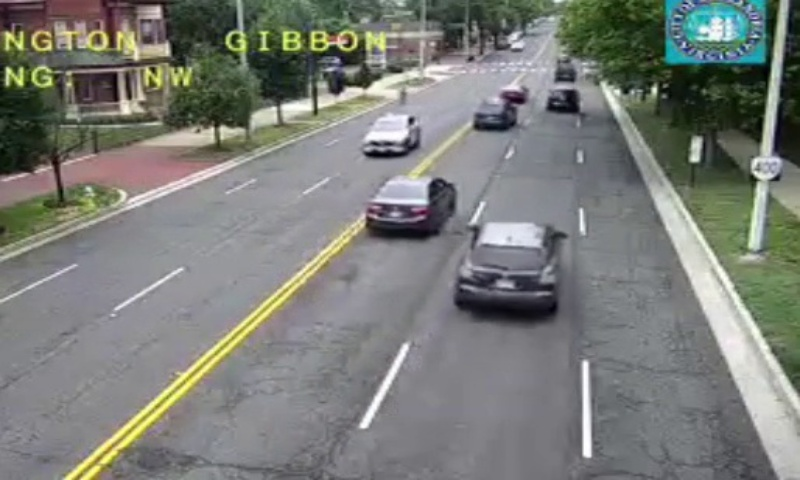car: (454, 222, 557, 309), (365, 176, 456, 230), (471, 101, 516, 128), (547, 87, 578, 113), (499, 83, 529, 104)
